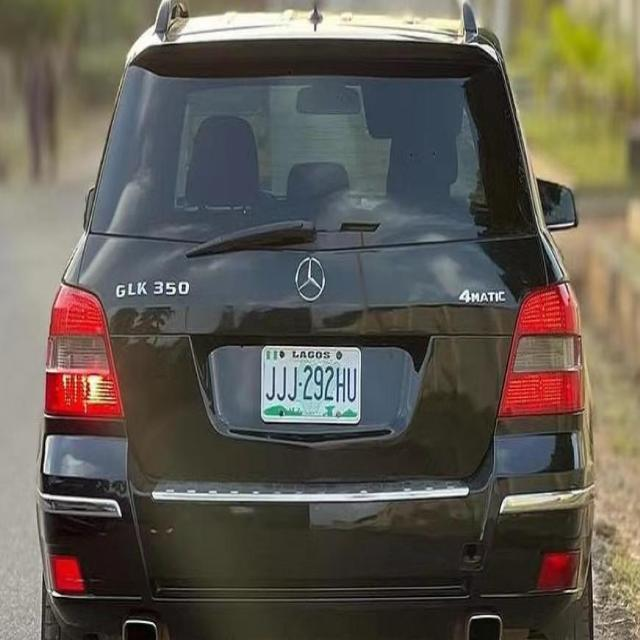Nigerian License Plate - vdataset benjamin-daria: (259, 342, 363, 426)
